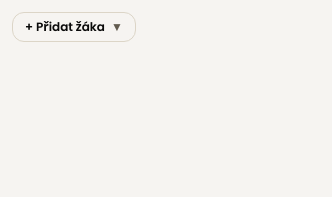
Scenario: PickerMenu › opens a list in the page (not a native select) and picks on click
This screenshot has width=332, height=197.
Click the button "+ Přidat žáka ▼": (74, 27) top-left (12, 12), bottom-right (136, 42)
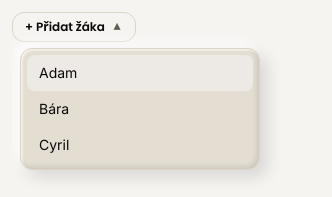
Click the option "Bára": (54, 108) top-left (39, 100), bottom-right (69, 117)
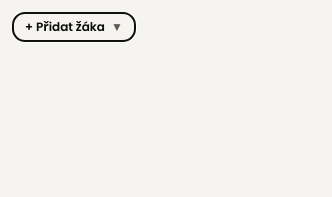
Expected: the list is gone
